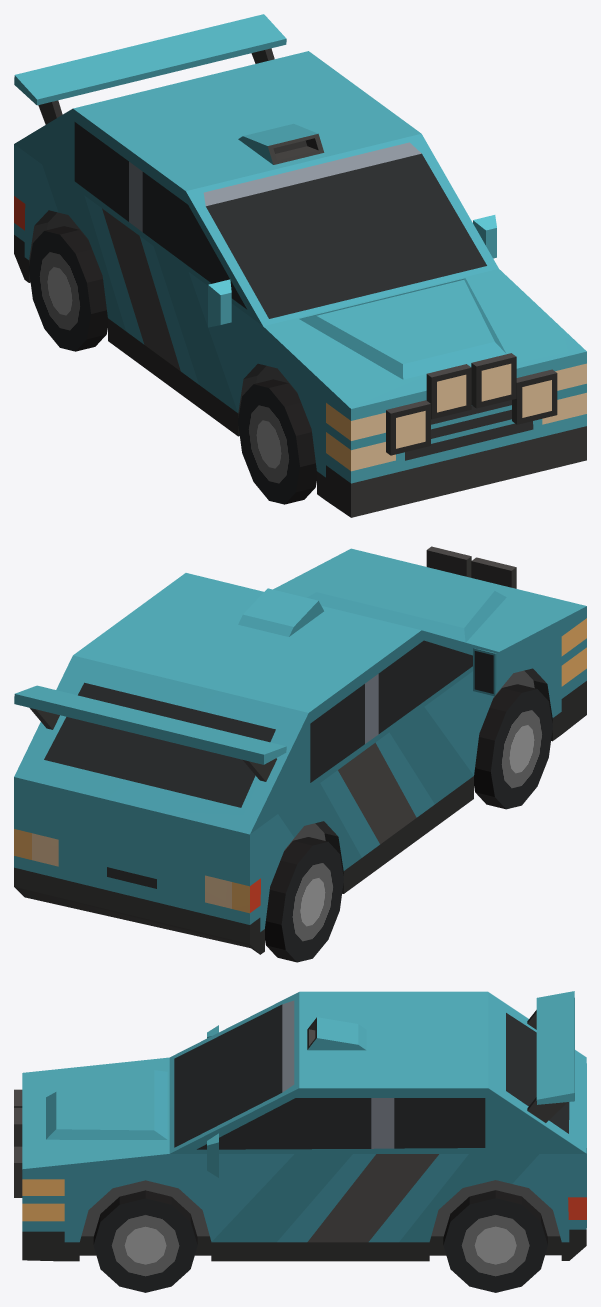
Rendered from RalleyCar_LightBlue.fbx.
3 views of the same model, one above another, from view 1: azimuth 30°, elevation 25°; view 2: azimuth 150°, elevation 25°; view 3: azimuth 270°, elevation 25° (orthographic). The views are drawn at different scales.
Parts seen in each view (by area): view 1: SR_Veh_RalleyCar_LightBlue, SR_Veh_RalleyCar_Wheel_RR, SR_Veh_RalleyCar_Wheel_FR; view 2: SR_Veh_RalleyCar_LightBlue, SR_Veh_RalleyCar_Wheel_RR, SR_Veh_RalleyCar_Wheel_FR; view 3: SR_Veh_RalleyCar_LightBlue, SR_Veh_RalleyCar_Wheel_RL, SR_Veh_RalleyCar_Wheel_FL.
Boxes of the visible parts, bbox=[...] form: SR_Veh_RalleyCar_LightBlue: bbox=[14, 14, 586, 517]; SR_Veh_RalleyCar_Wheel_RR: bbox=[28, 226, 107, 351]; SR_Veh_RalleyCar_Wheel_FR: bbox=[238, 379, 316, 504]; SR_Veh_RalleyCar_LightBlue: bbox=[14, 546, 586, 954]; SR_Veh_RalleyCar_Wheel_RR: bbox=[265, 837, 343, 962]; SR_Veh_RalleyCar_Wheel_FR: bbox=[474, 684, 552, 809]; SR_Veh_RalleyCar_LightBlue: bbox=[14, 991, 586, 1261]; SR_Veh_RalleyCar_Wheel_RL: bbox=[443, 1190, 547, 1292]; SR_Veh_RalleyCar_Wheel_FL: bbox=[93, 1190, 197, 1292].
Bounding box in the file's own units: 310 × 263 × 639.
1 material, 1 textured.
